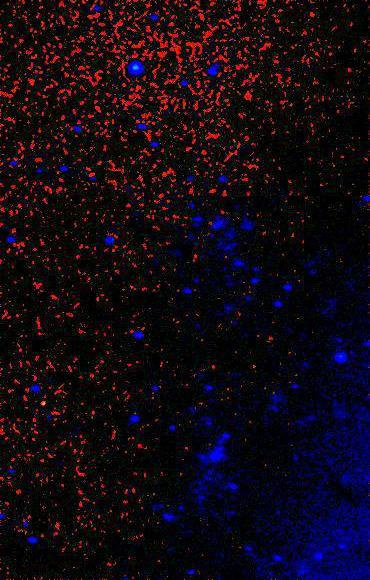star: (28, 391, 58, 421)
